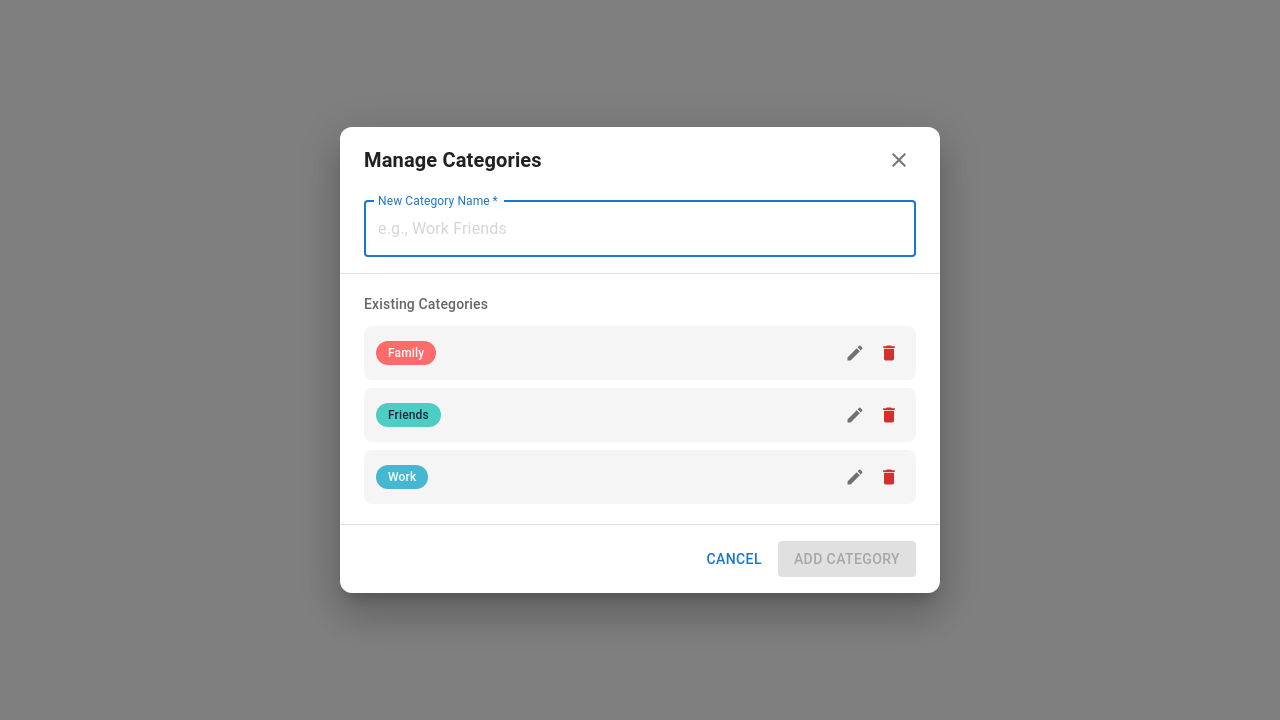
Test: AddCategoryModal › edit button enters rename mode with text field
Click the button named "Edit Family category" at (855, 353), box [840,338,870,368]
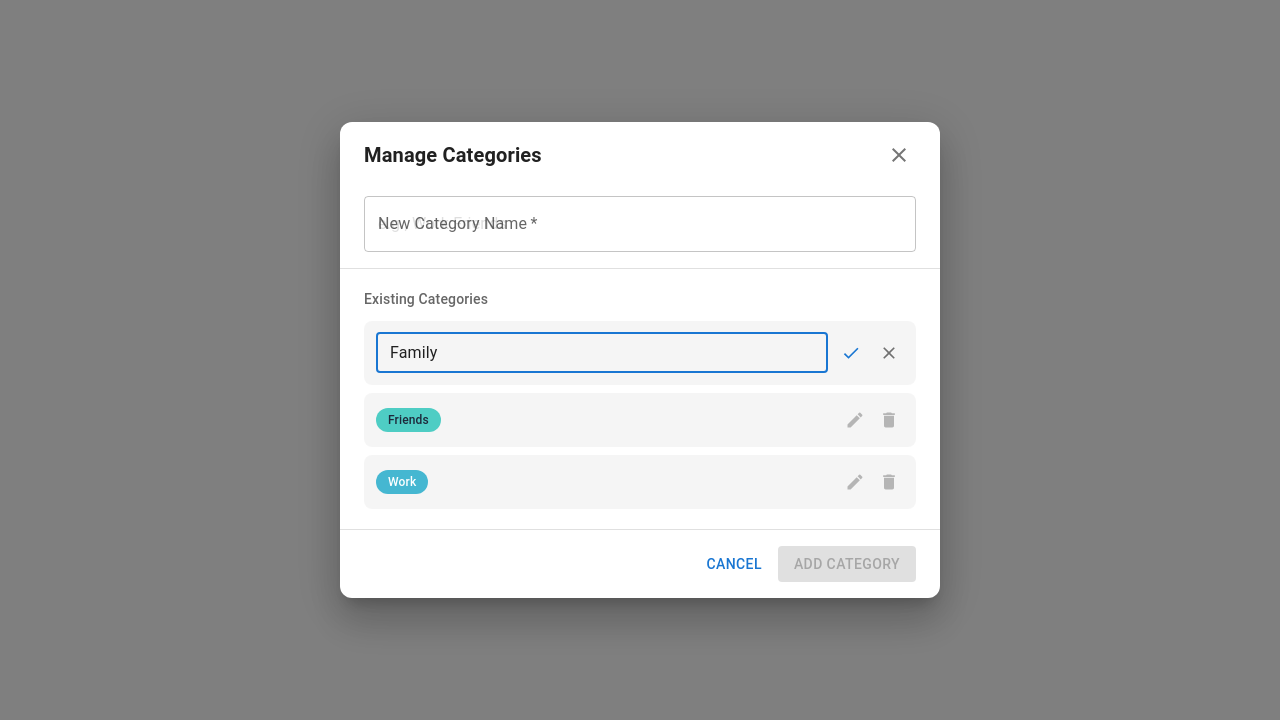
Result: the field showing "Family" is shown at [376,333,828,373]
